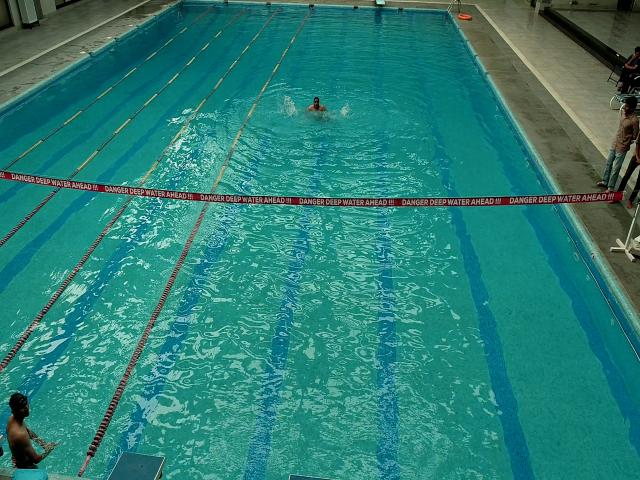out of water: (594, 93, 638, 198), (614, 46, 640, 90)
swimming: (7, 392, 59, 470), (305, 96, 327, 122)
